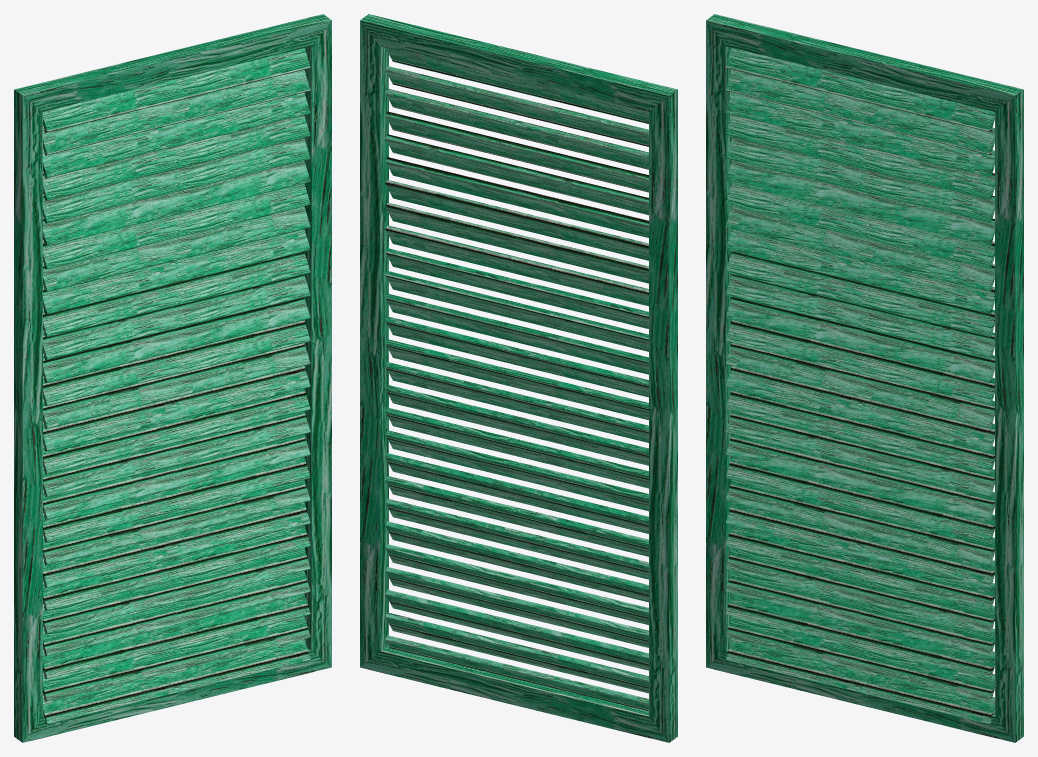
File: Blind.gltf
3 renders of one model, left to right at view 1: azimuth 30°, elevation 25°; view 2: azimuth 150°, elevation 25°; view 3: azimuth 330°, elevation 25°, orthographic.
Parts seen in each view (by area): view 1: Cube.015; view 2: Cube.015; view 3: Cube.015.
Part boxes in pixels (box(x1,y1,x2,y2)): Cube.015: box(14, 14, 331, 742); Cube.015: box(360, 14, 677, 742); Cube.015: box(706, 14, 1023, 742).
Size of the model in its own units: 1.07 by 2.14 by 0.0672.
Materials: 1 (1 with a texture image).
